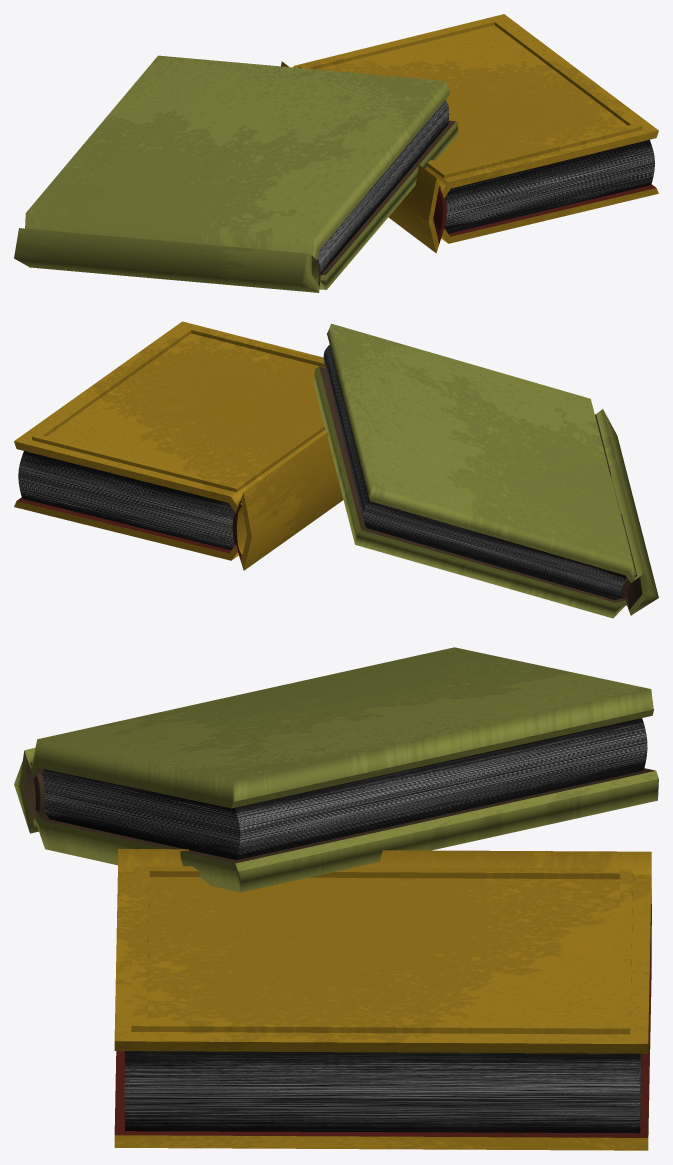
The model's file is TwoBooksStack.fbx.
The picture shows the model from 3 angles, top to bottom: view 1: azimuth 30°, elevation 25°; view 2: azimuth 150°, elevation 25°; view 3: azimuth 270°, elevation 25°; orthographic projection. The views are drawn at different scales.
Parts seen in each view (by area): view 1: pCube11, pCube12, pages14, pages15, spine14; view 2: pCube11, pCube12, pages14, pages15, spine15, spine14; view 3: pCube12, pCube11, pages14, pages15.
Boxes of the visible parts, bbox=[...] form: pCube11: bbox=[14, 55, 458, 292]; pCube12: bbox=[281, 14, 658, 253]; pages14: bbox=[440, 139, 654, 233]; pages15: bbox=[317, 100, 449, 274]; spine14: bbox=[433, 188, 446, 237]; pCube11: bbox=[313, 323, 658, 618]; pCube12: bbox=[14, 321, 343, 570]; pages14: bbox=[18, 451, 239, 550]; pages15: bbox=[323, 345, 627, 599]; spine15: bbox=[595, 414, 637, 605]; spine14: bbox=[232, 503, 246, 555]; pCube12: bbox=[114, 849, 651, 1150]; pCube11: bbox=[14, 647, 658, 892]; pages14: bbox=[124, 1051, 641, 1133]; pages15: bbox=[42, 718, 647, 860].
Bounding box in the file's own units: 1.46 × 0.3804 × 0.8733.
